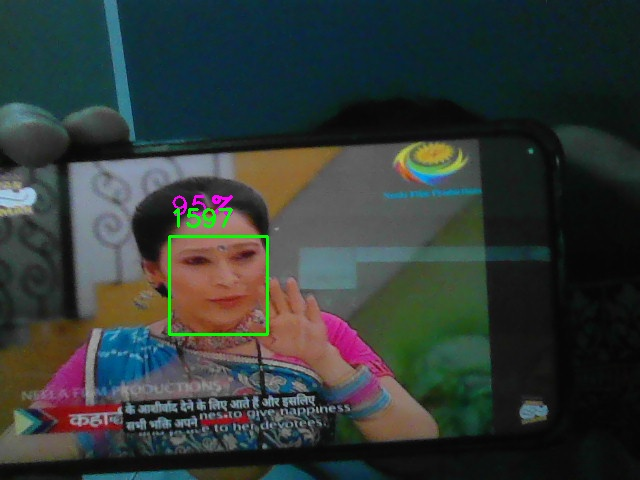fake: (169, 236, 268, 335)
